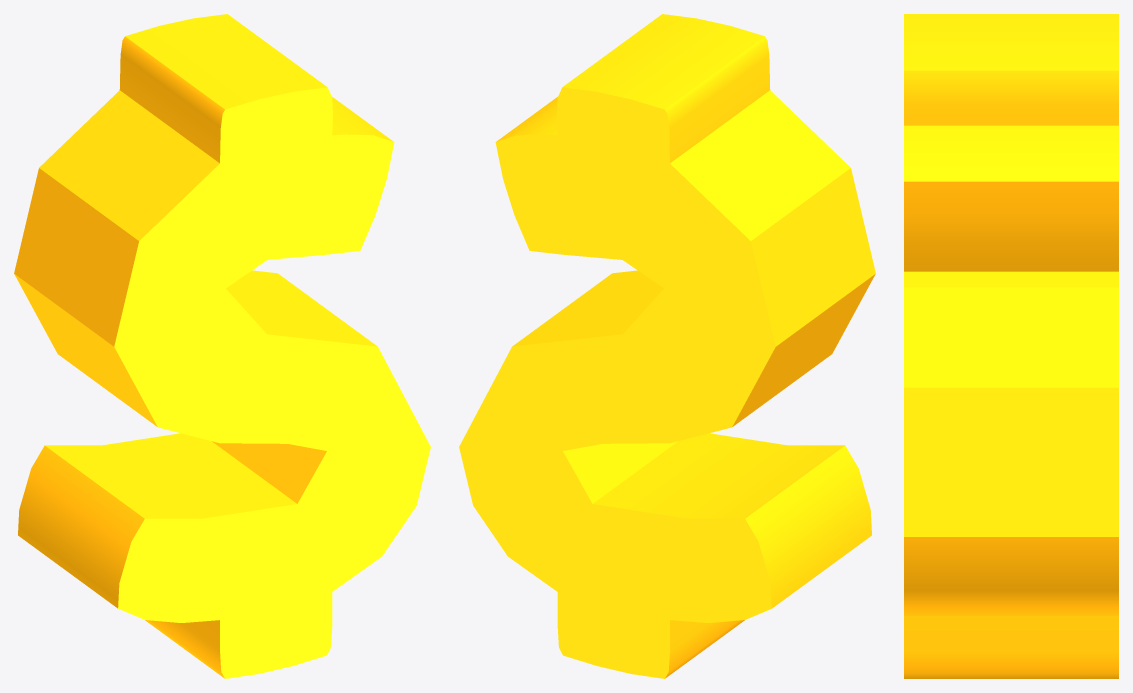
Rendered from symbol$_Zyzol_Yellow.glb.
3 views of the same model, side by side, from view 1: azimuth 30°, elevation 25°; view 2: azimuth 150°, elevation 25°; view 3: azimuth 270°, elevation 25° (orthographic). The views are drawn at different scales.
Visible parts, largest first — view 1: $_Zyzol_Yellow; view 2: $_Zyzol_Yellow; view 3: $_Zyzol_Yellow.
Boxes of the visible parts, x1,y1,x2,y2 form: $_Zyzol_Yellow: (14, 14, 430, 678); $_Zyzol_Yellow: (459, 14, 875, 678); $_Zyzol_Yellow: (904, 14, 1118, 678).
Size of what is drawn, in the model's own units: 0.0821 by 0.1425 by 0.045.
Materials: 2 (2 with a texture image).
